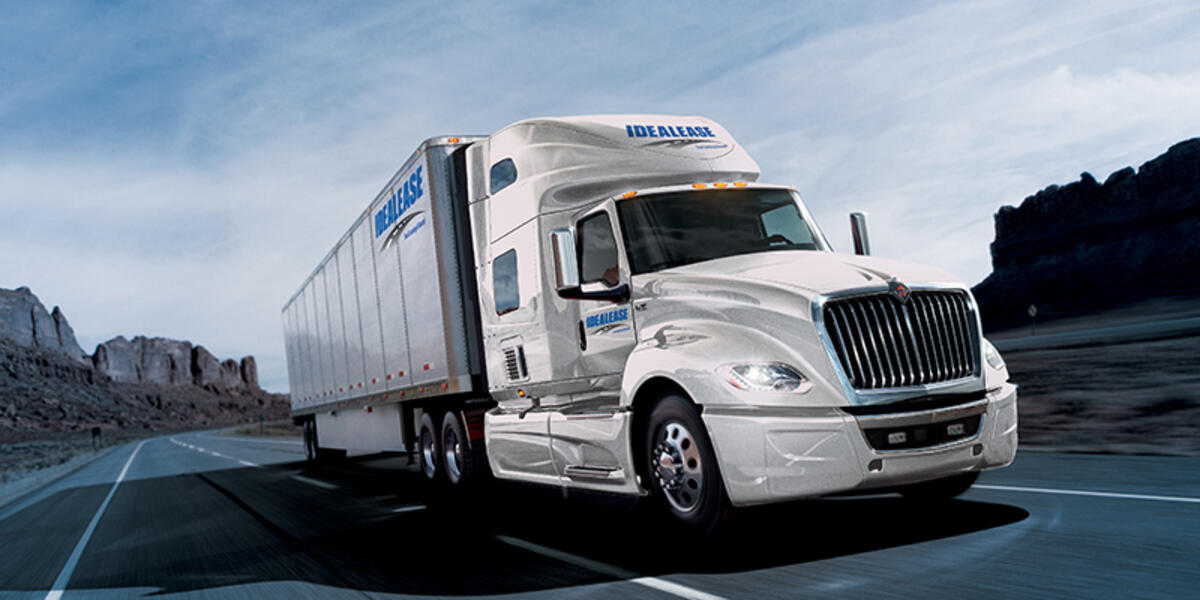truck: (276, 111, 1021, 518)
